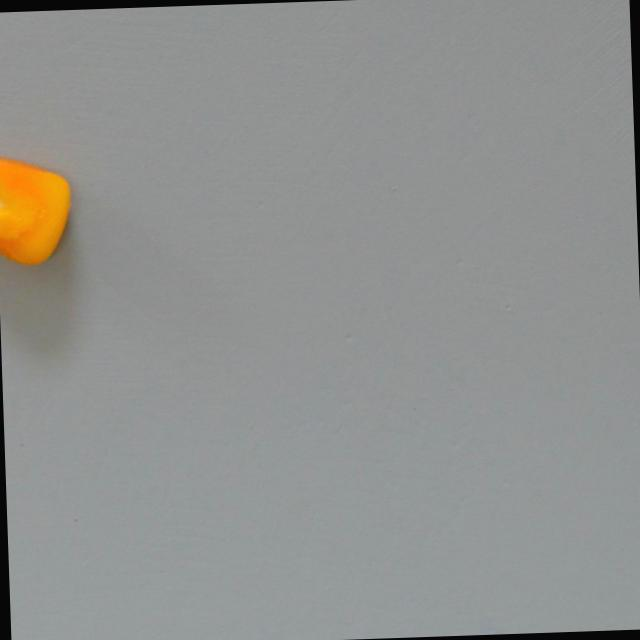no_canjicado: (0, 153, 75, 267)
